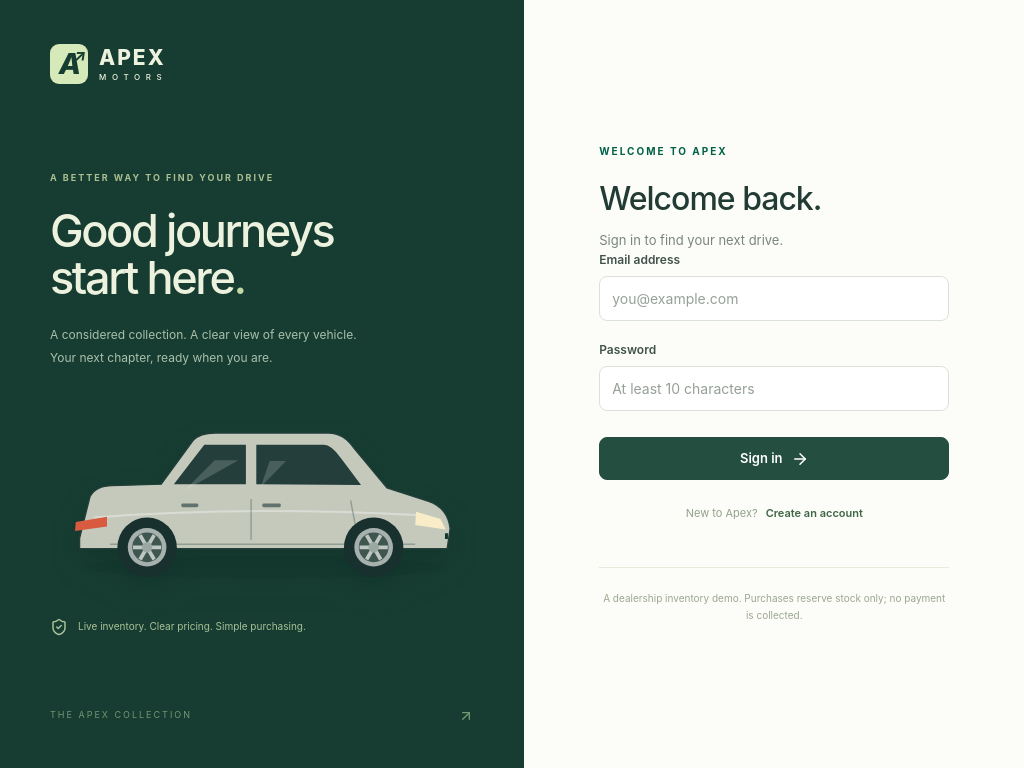
application workflows › keeps failed admin forms open for correction
Type "buyer@example.com" into the field labelled "Email address" at (774, 298), box [599, 276, 949, 321]
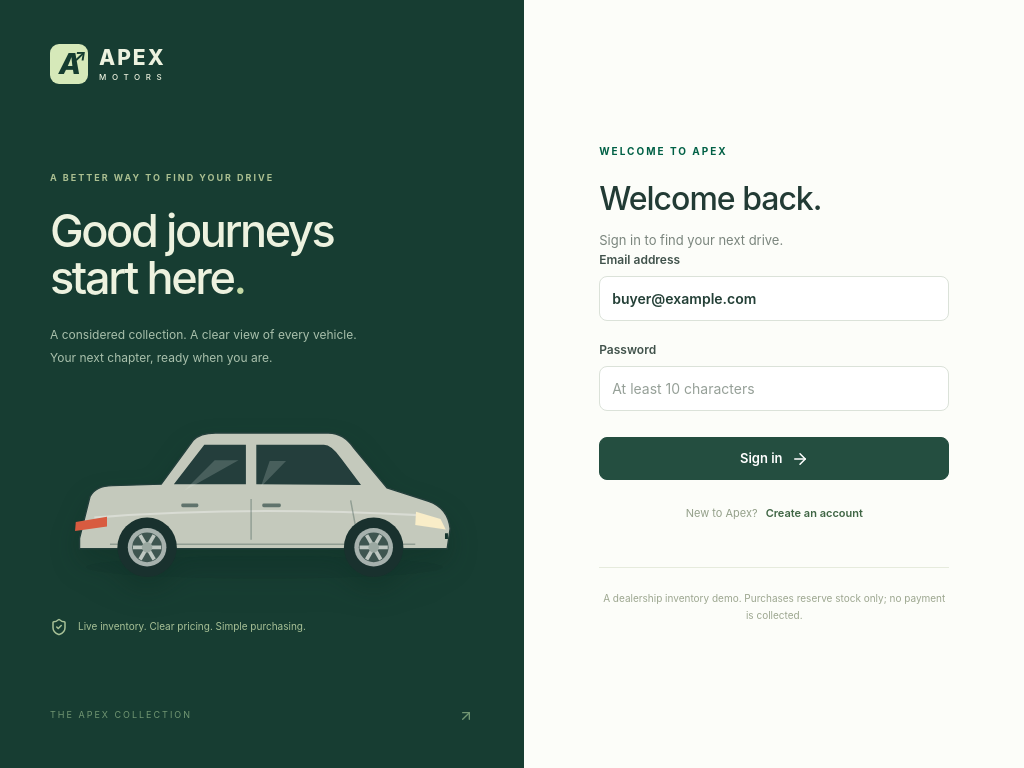
Type "Password123!" into the password field labelled "Password" at (774, 388), box [599, 366, 949, 411]
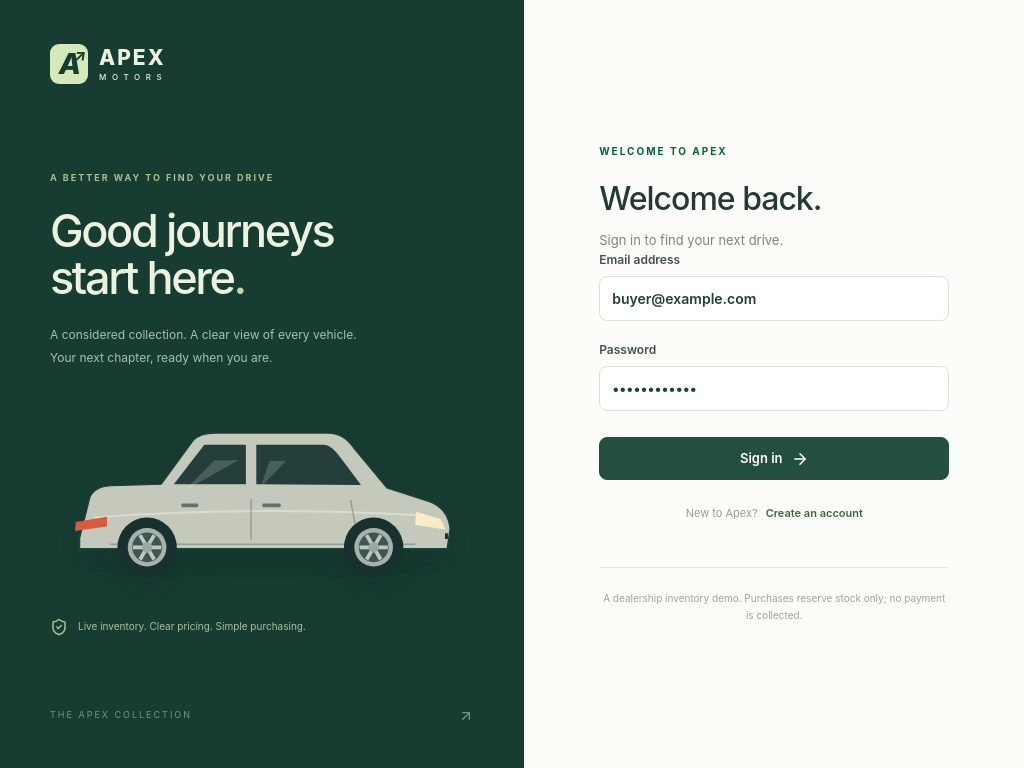
Submit the form "Sign in", box [599, 251, 949, 480]
(page scrolled)
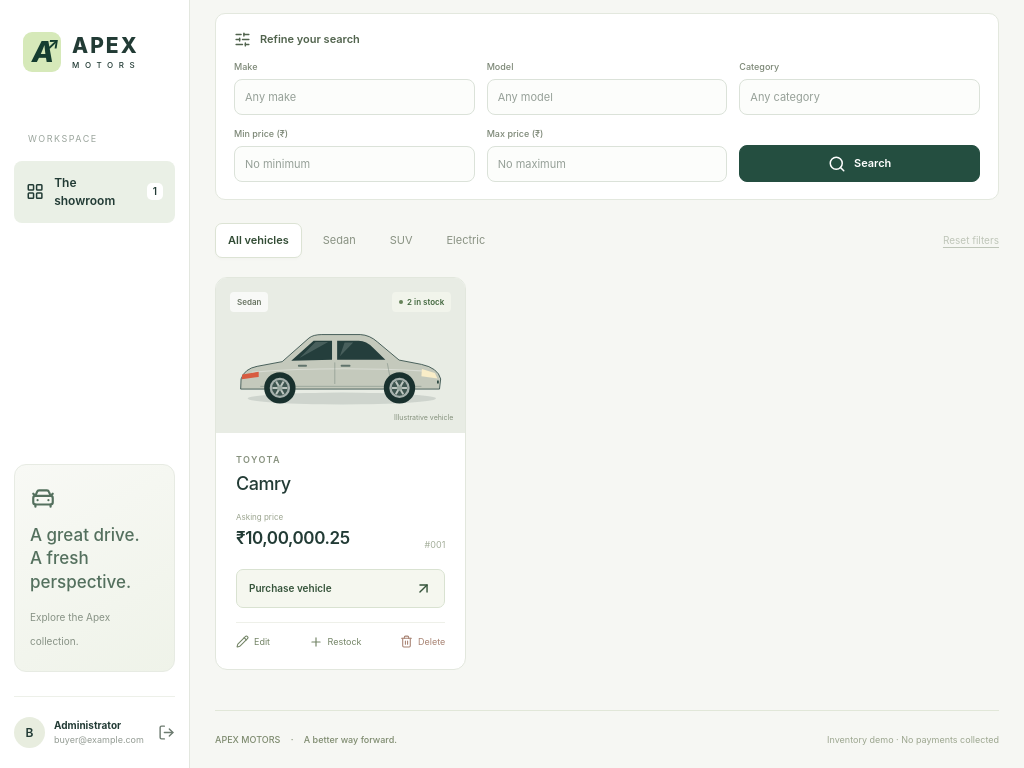
Check: the heading "Camry" is shown, box [236, 473, 290, 494]
Click the button "Restock" at (335, 642), box [308, 634, 362, 648]
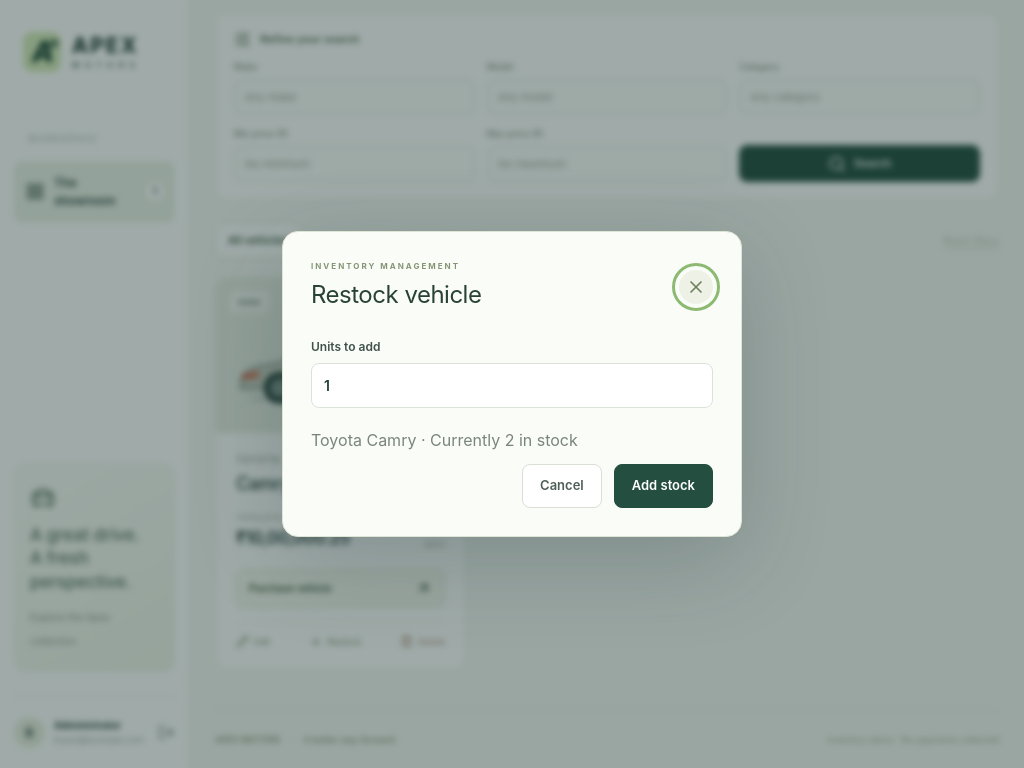
Submit the form "Add stock", box [311, 338, 713, 508]
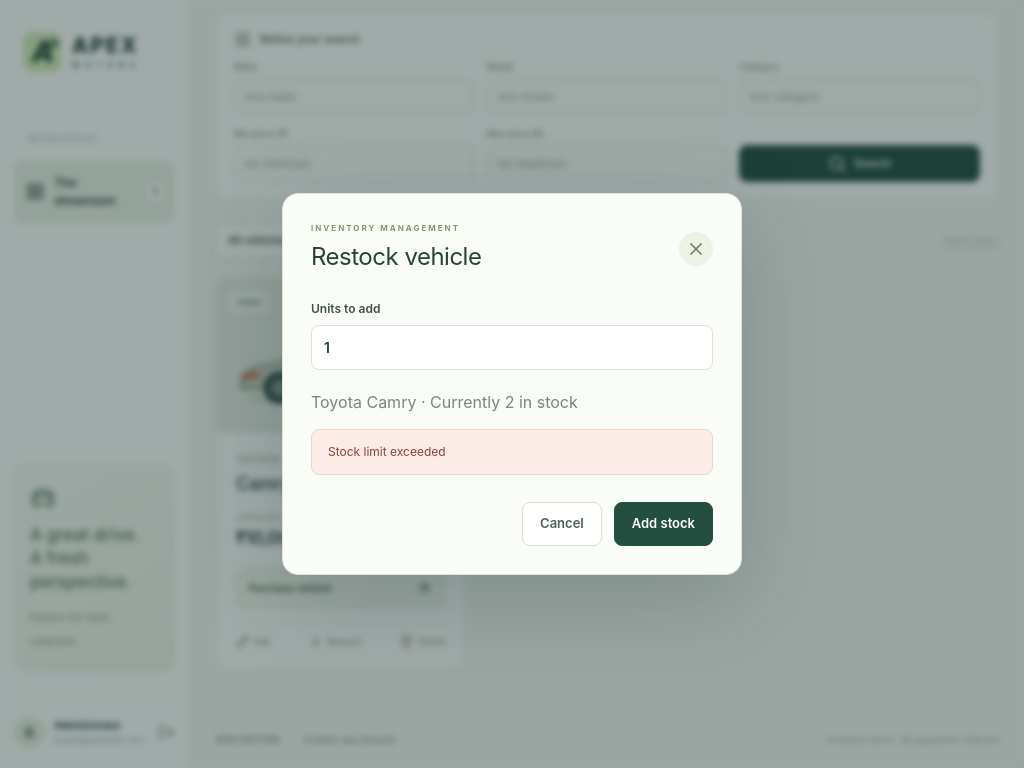
Check: the dialog is shown, box [282, 193, 742, 575]
Check: the message reads "Stock limit exceeded", box [328, 444, 446, 459]
Click the button "Cancel" at (562, 524), box [522, 502, 602, 546]
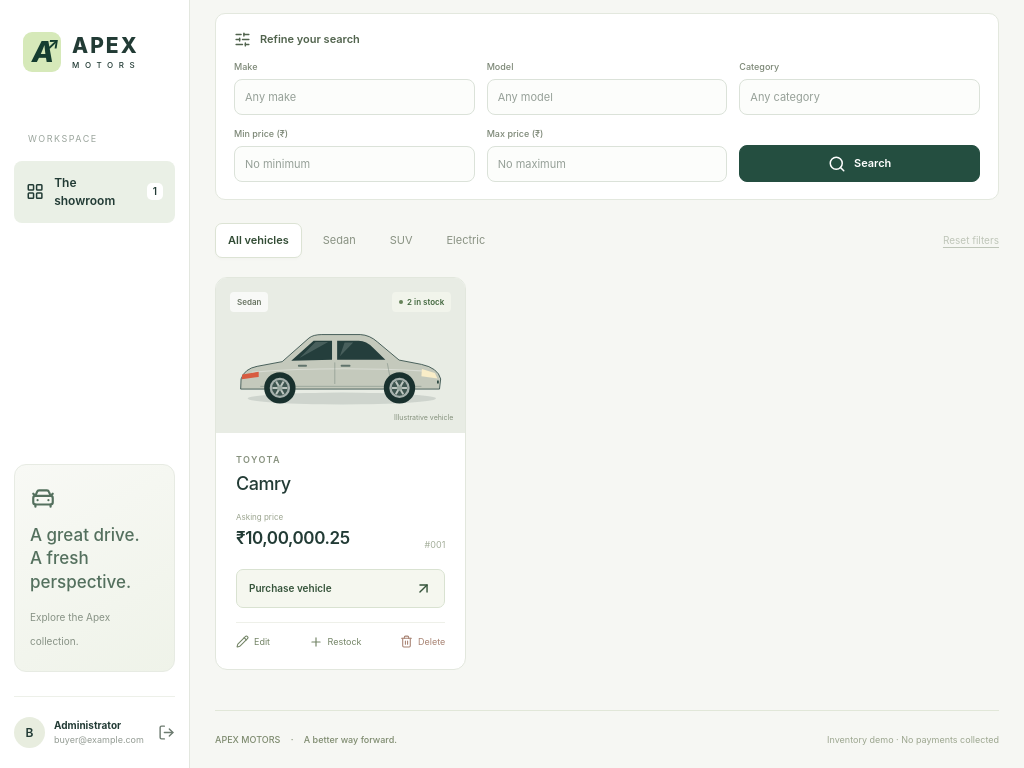
Check: the dialog is gone
